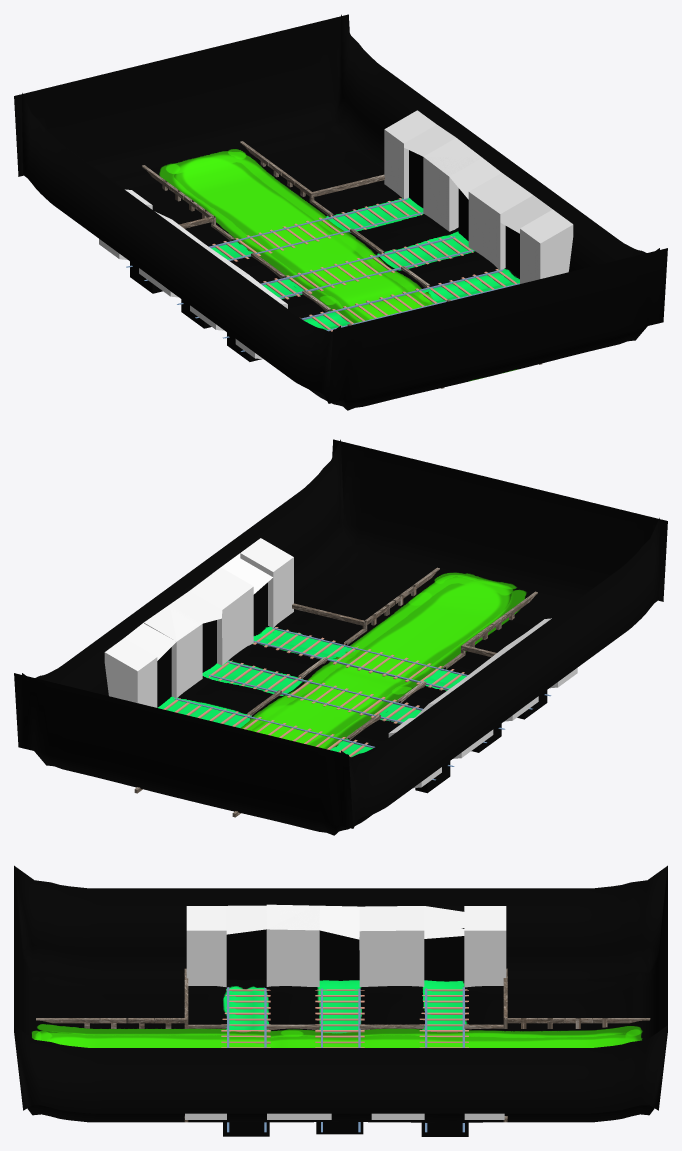
File: trainwreck.glb
3 views of the same model, one above another, from view 1: azimuth 30°, elevation 25°; view 2: azimuth 150°, elevation 25°; view 3: azimuth 270°, elevation 25° (orthographic). The views are drawn at different scales.
Visible parts, largest first — view 1: terrain, woodenThing.007, railway.001, railway.002, railway, woodenThing.006, woodenThing.002, woodenThing.003, Cube.005, Cube.004; view 2: terrain, woodenThing.007, railway.001, railway, woodenThing.006, railway.002, woodenThing.001, woodenThing, Cube.005, Cube.003, Cube.004; view 3: terrain, woodenThing.006, Cube.001, Cube, Cube.002, railway.001, railway.002, railway, woodenThing.007, woodenThing, woodenThing.003, woodenThing.004 (+3 smaller).
Part boxes in pixels (x1,y1,x2,y2): terrain: (14,14,667,410); woodenThing.007: (384,110,573,283); railway.001: (177,235,473,318); railway.002: (126,198,423,280); railway: (222,269,519,351); woodenThing.006: (99,189,287,359); woodenThing.002: (240,141,384,201); woodenThing.003: (142,165,215,228); Cube.005: (409,150,423,207); Cube.004: (505,226,519,277); terrain: (14,439,667,835); woodenThing.007: (104,538,293,707); railway.001: (208,660,505,742); railway: (253,627,551,709); woodenThing.006: (388,618,577,788); railway.002: (163,698,454,780); woodenThing.001: (292,567,439,630); woodenThing: (461,591,537,657); Cube.005: (157,647,171,707); Cube.003: (202,620,216,672); Cube.004: (253,582,267,635); terrain: (14,865,667,1123); woodenThing.006: (186,904,506,987); Cube.001: (226,929,266,980); Cube: (319,930,359,980); Cube.002: (424,928,464,981); railway.001: (315,988,364,1132); railway.002: (419,987,468,1132); railway: (221,987,270,1132); woodenThing.007: (185,1113,504,1119); woodenThing: (36,968,188,1028); woodenThing.003: (503,968,650,1028); woodenThing.004: (188,1024,503,1029).
Size of the model in its own units: 36.24 by 12.23 by 59.84.
6 materials, 2 textured.
